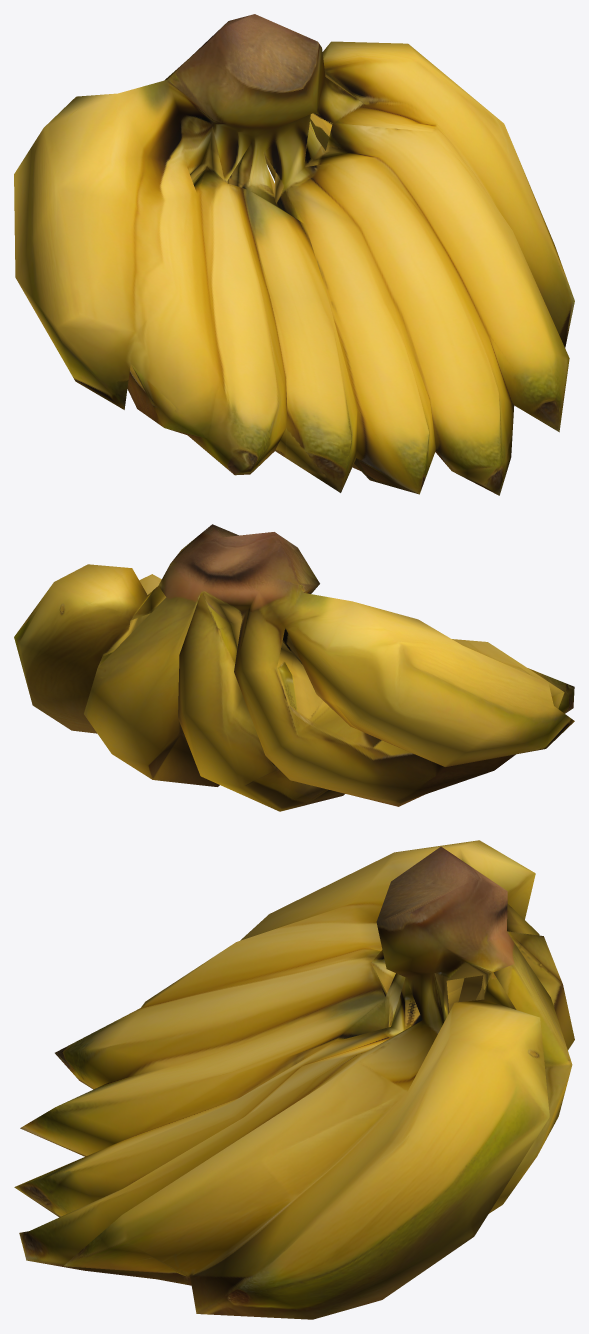
Rendered from Banana.glb.
3 renders of one model, top to bottom at view 1: azimuth 30°, elevation 25°; view 2: azimuth 150°, elevation 25°; view 3: azimuth 270°, elevation 25°, orthographic. The views are drawn at different scales.
Size of the model in its own units: 1.92 by 1.29 by 1.67.
1 material, 1 textured.
